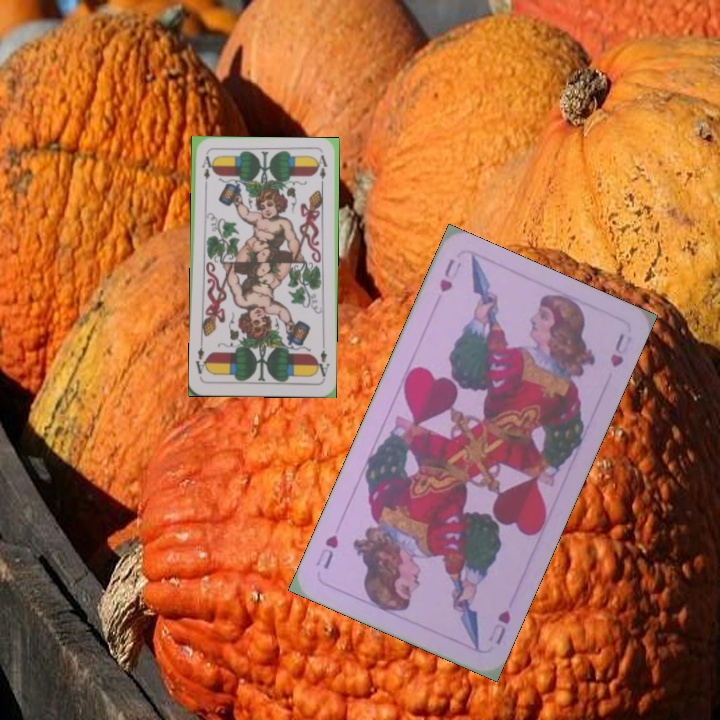EA: (312, 341, 331, 381), (198, 152, 214, 191)
HU: (489, 605, 514, 648), (435, 254, 457, 295)
